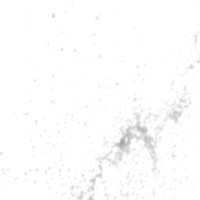pitted_surface: (1, 0, 200, 198)
